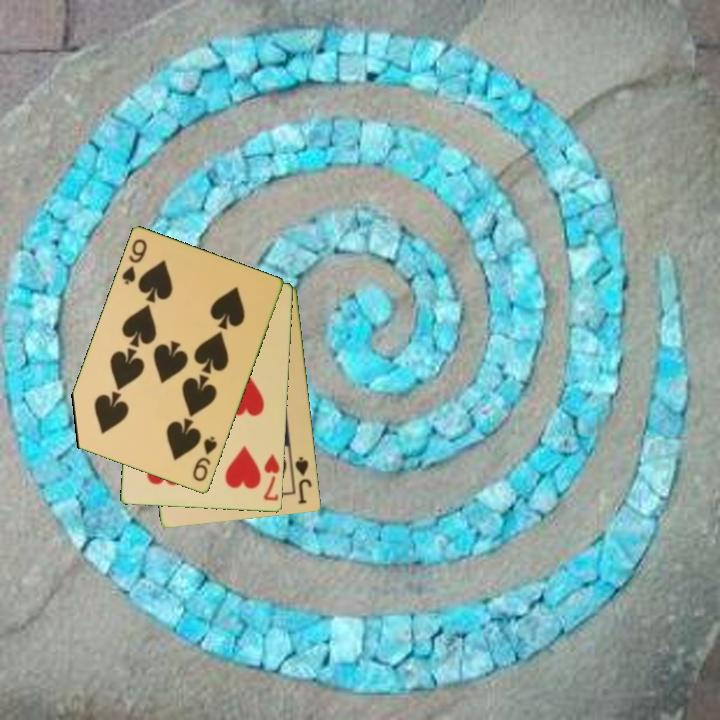7h: (260, 450, 283, 504)
9s: (189, 433, 221, 485), (119, 235, 150, 288)
Js: (292, 453, 315, 507)
